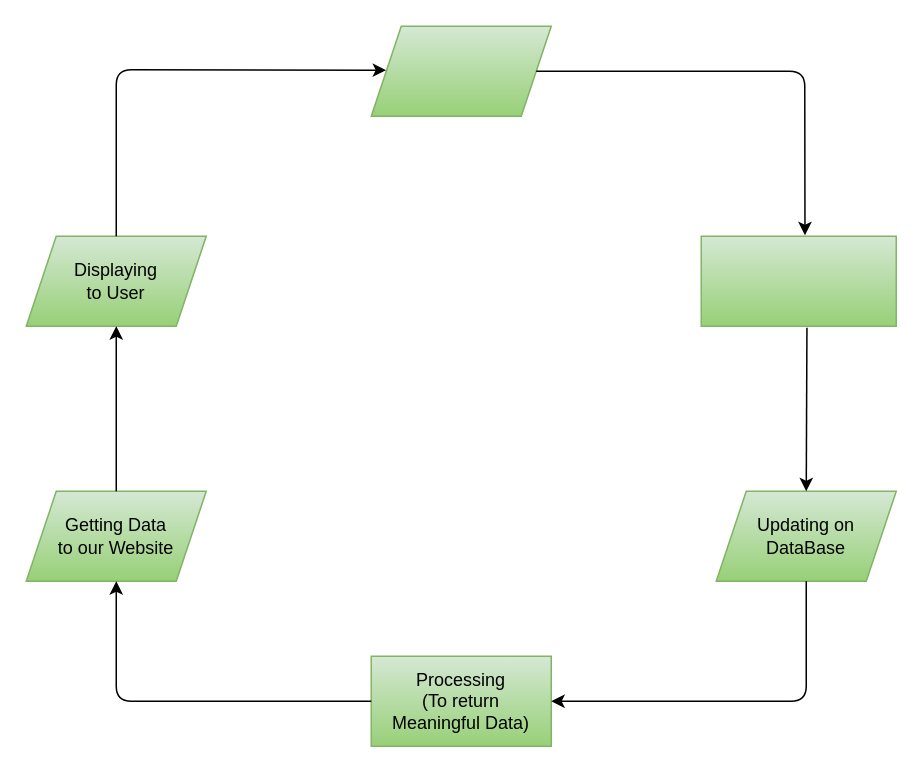
Image size: 923x773. Some labels were removed from this diagram. The shapes that lost their labels are listed below. From the top down, each one's box as (x1, y1, x2, y2) in pixels, then its label:
(370, 25, 551, 116): Parsing Data from Websites
(700, 235, 896, 326): Processing (To store in DataBase)
